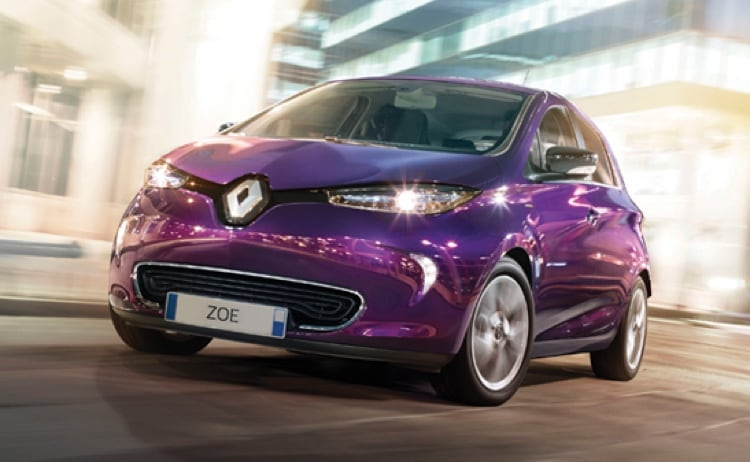car: (106, 75, 649, 405)
